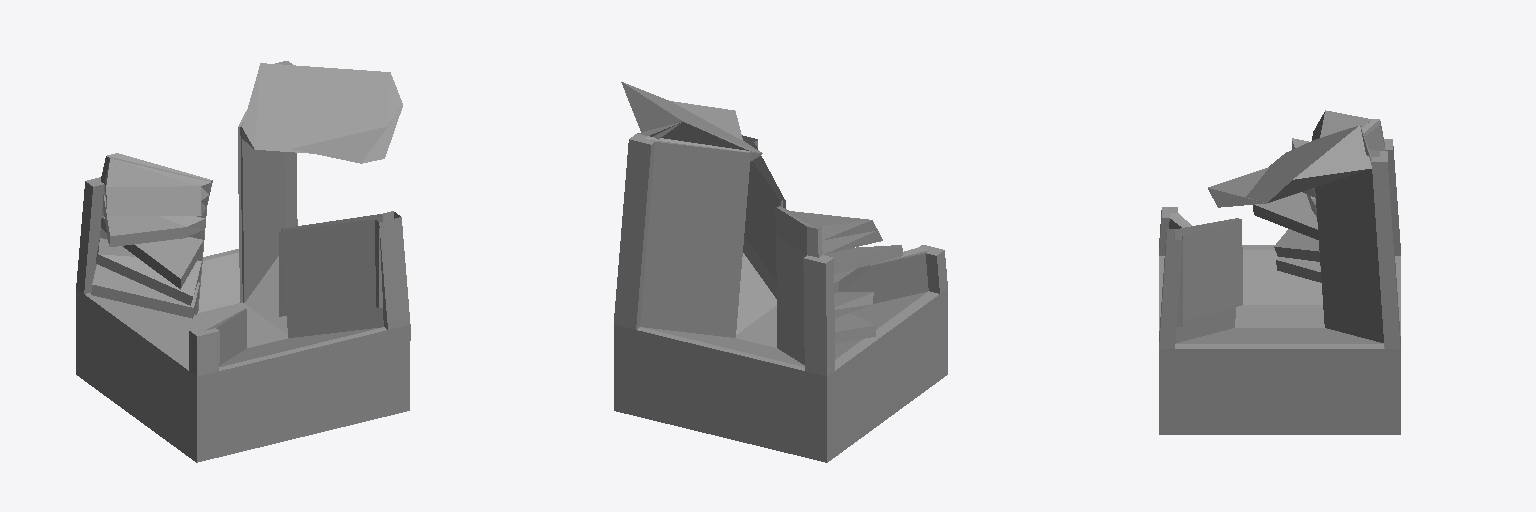
Rendered from arena.obj.
The picture shows the model from 3 angles: view 1: azimuth 30°, elevation 25°; view 2: azimuth 150°, elevation 25°; view 3: azimuth 270°, elevation 25°; orthographic projection.
Parts seen in each view (by area): view 1: Cube.001; view 2: Cube.001; view 3: Cube.001.
Boxes of the visible parts, x1,y1,x2,y2 form: Cube.001: [76, 61, 410, 462]; Cube.001: [614, 82, 947, 462]; Cube.001: [1159, 110, 1400, 434].
Size of the model in its own units: 112 by 116 by 83.35.